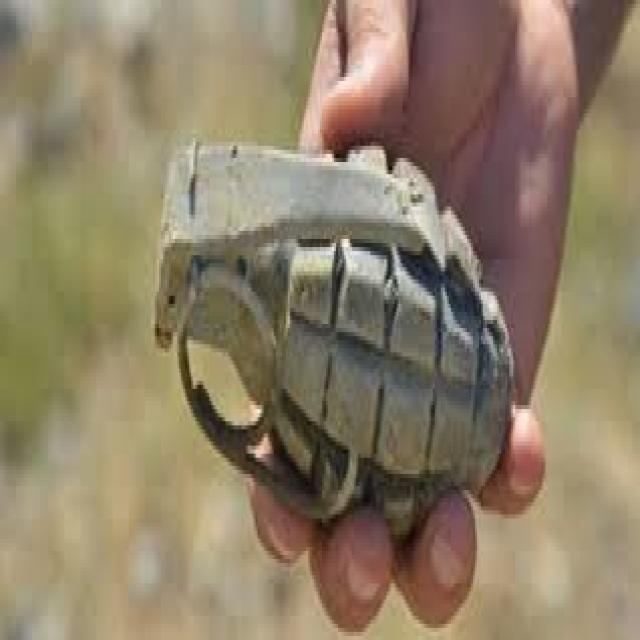grenade: (149, 114, 521, 544)
